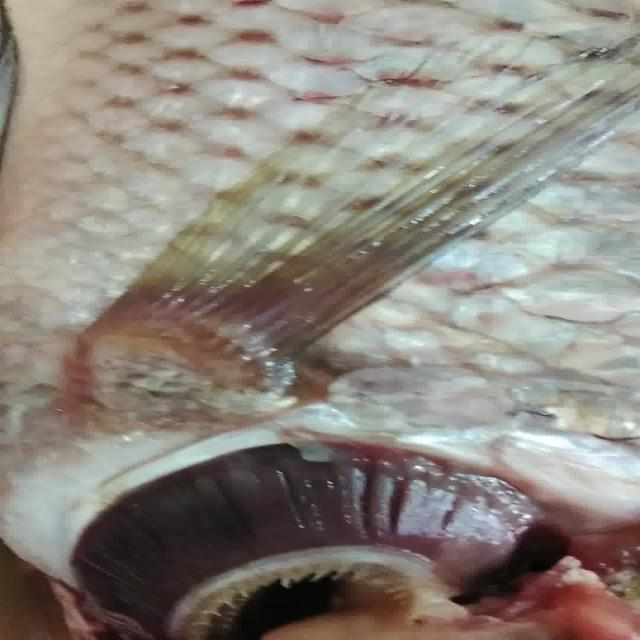Non-Fresh: (71, 432, 531, 630)
